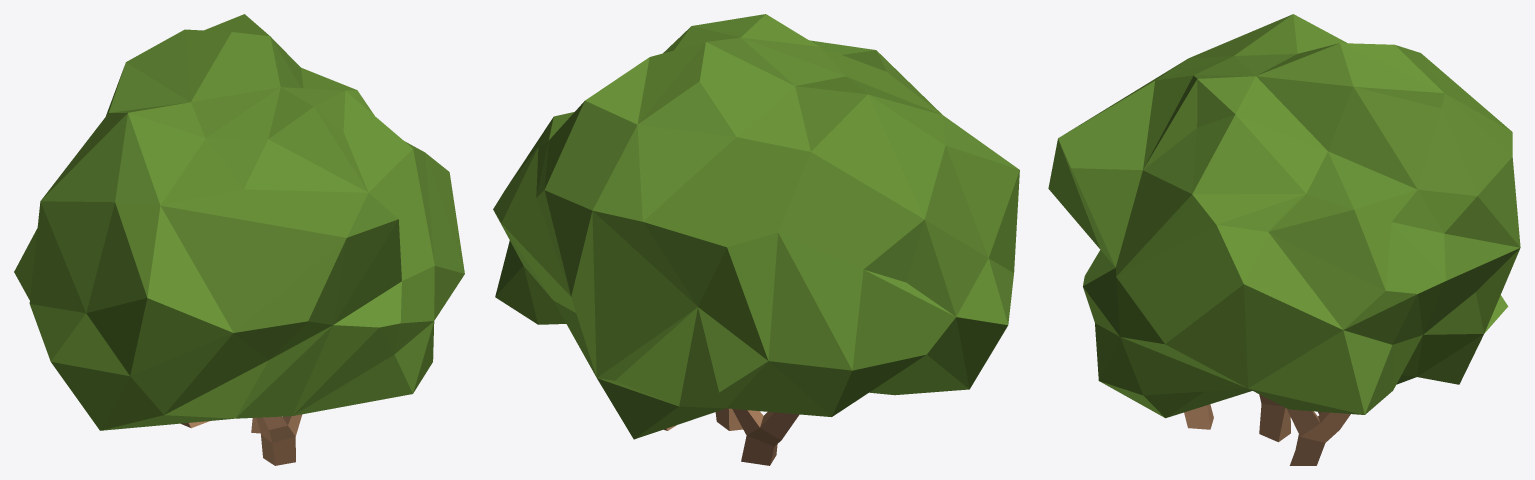
Rendered from bushes3.obj.
3 views of the same model, side by side, from view 1: azimuth 30°, elevation 25°; view 2: azimuth 150°, elevation 25°; view 3: azimuth 270°, elevation 25° (orthographic). The views are drawn at different scales.
Visible parts, largest first — view 1: Bush_average_Plane.001; view 2: Bush_average_Plane.001; view 3: Bush_average_Plane.001.
Boxes of the visible parts, x1=… form: Bush_average_Plane.001: x1=14, y1=14, x2=464, y2=465; Bush_average_Plane.001: x1=493, y1=14, x2=1019, y2=465; Bush_average_Plane.001: x1=1048, y1=14, x2=1520, y2=465.
Size of the model in its own units: 4.68 by 4.08 by 4.48.
